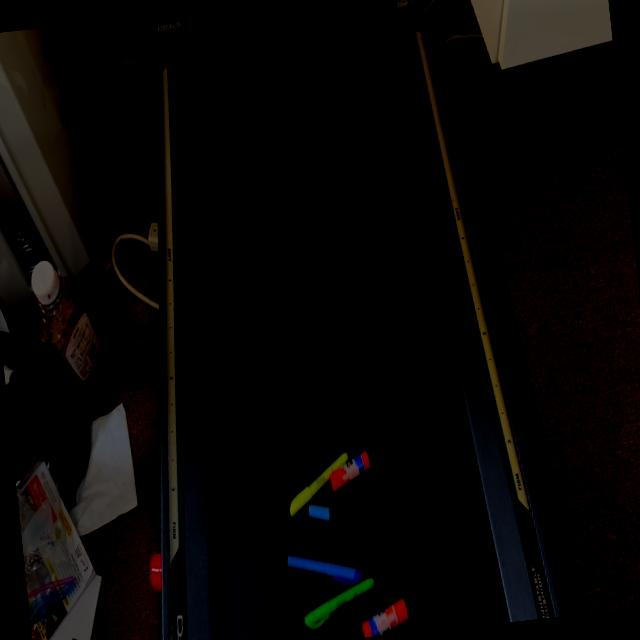Trash: (270, 437, 415, 640)
